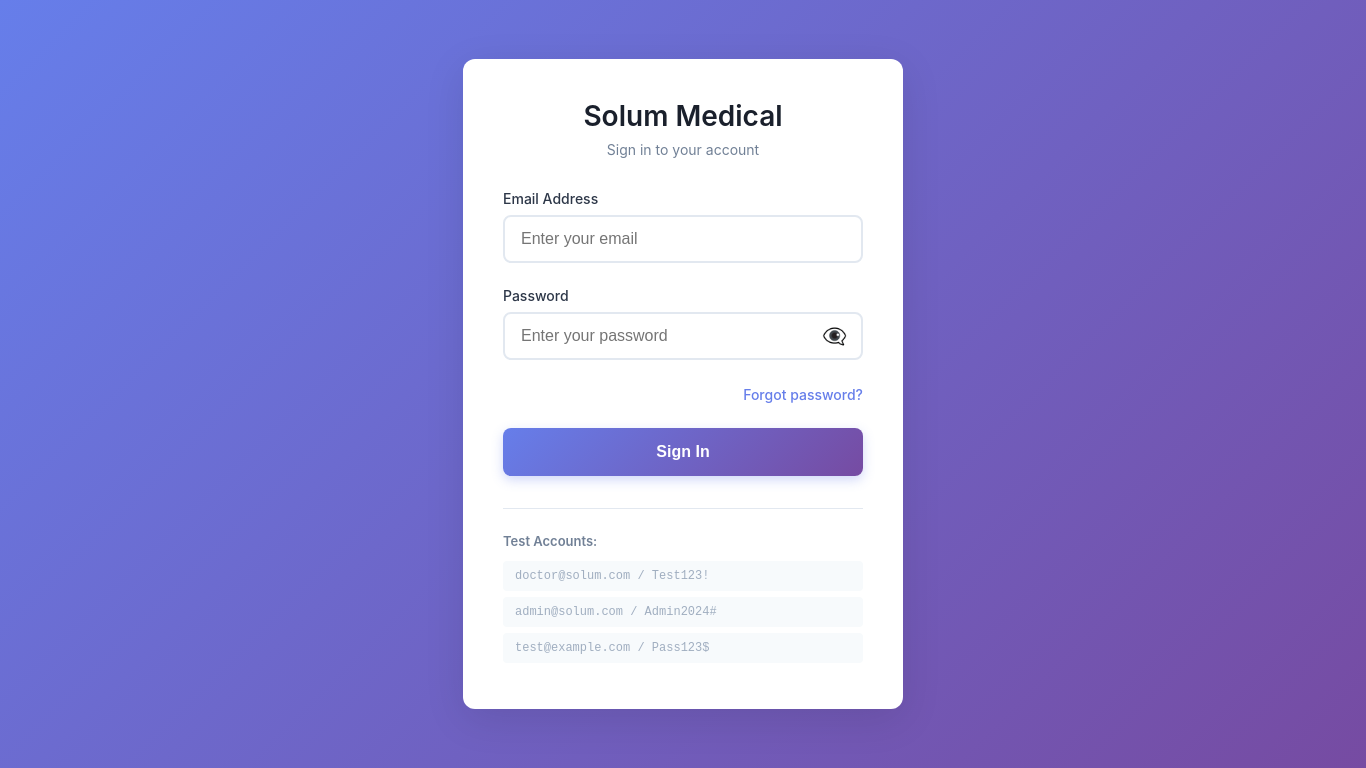
Test: Solum Medical Login Page › Email Validation › should show error when email is empty
Clear the field labelled "Email Address" at (683, 239), box [503,215,863,263]
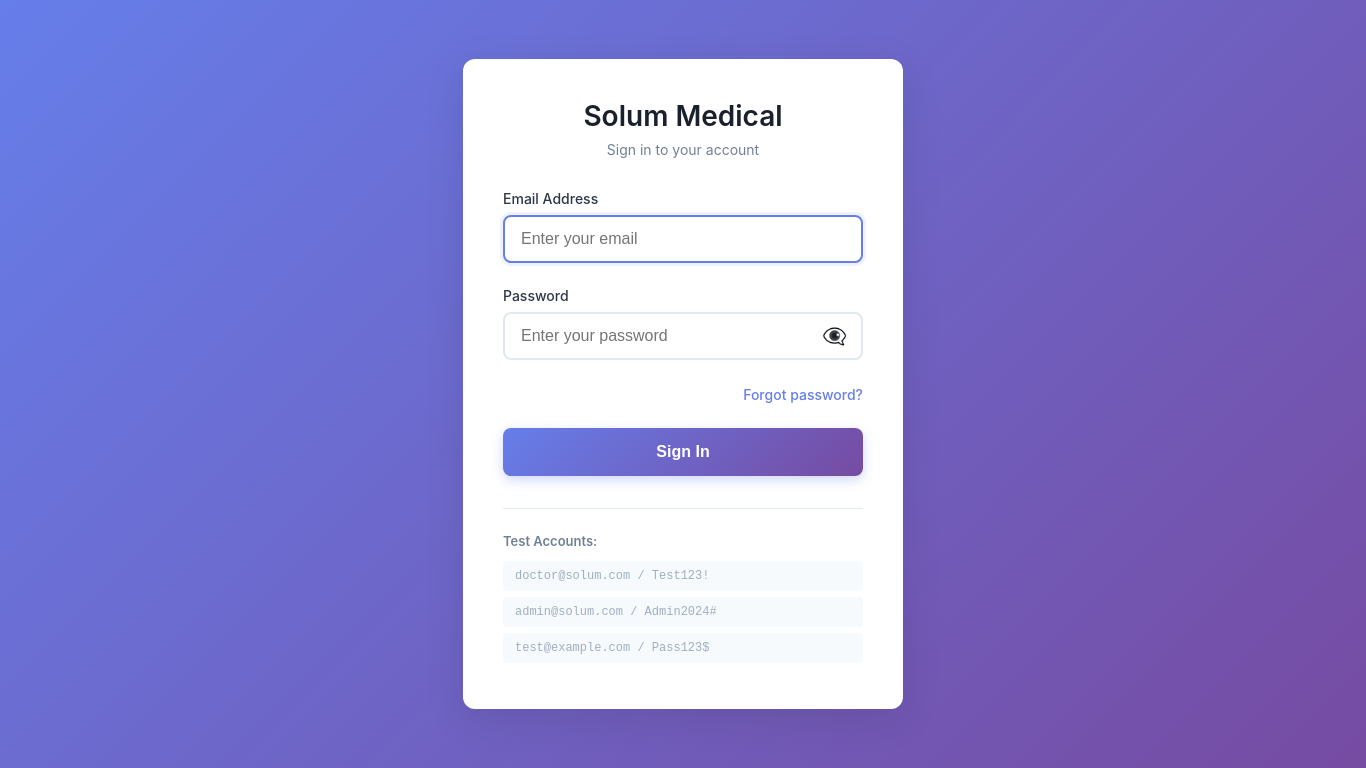
Type "Test123!" into the password field labelled "Password" at (683, 336), box [503,312,863,360]
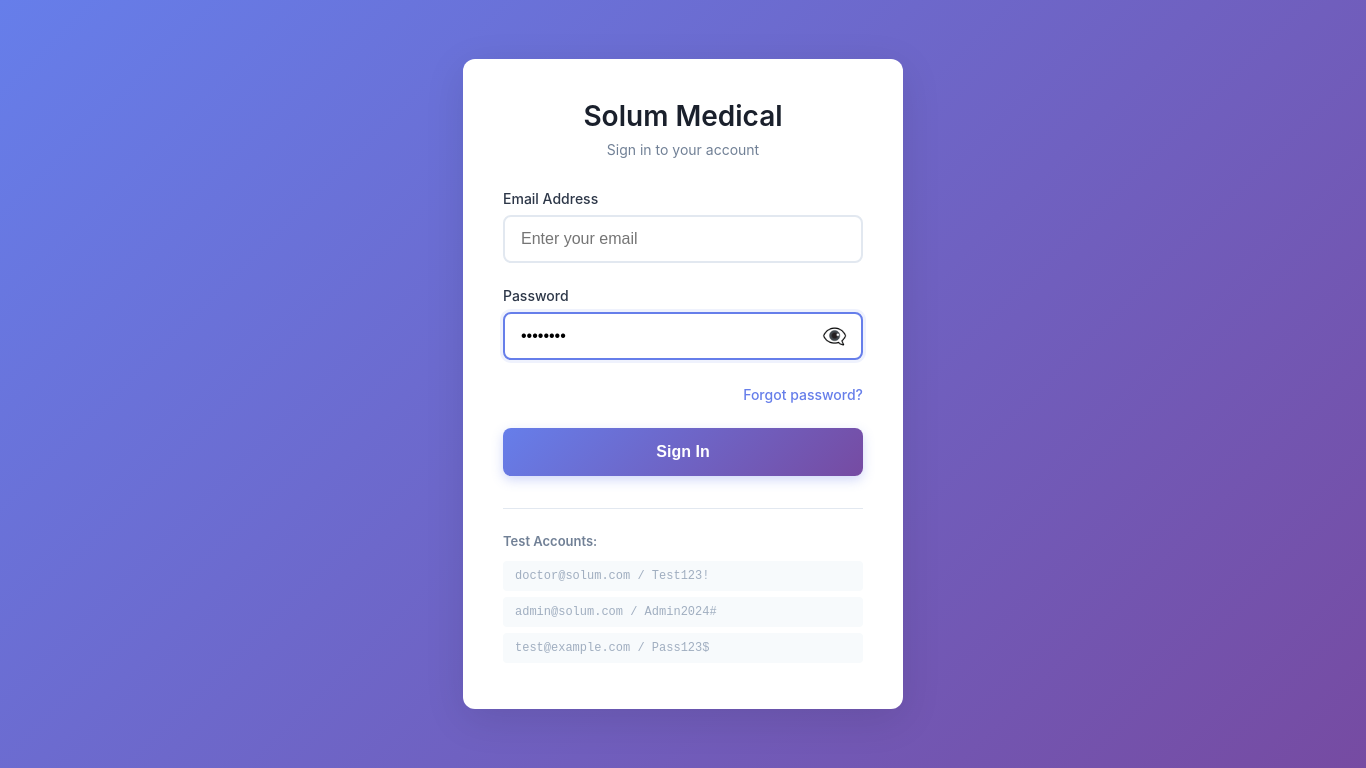
Click the button "Sign In" at (683, 452), box [503,428,863,476]
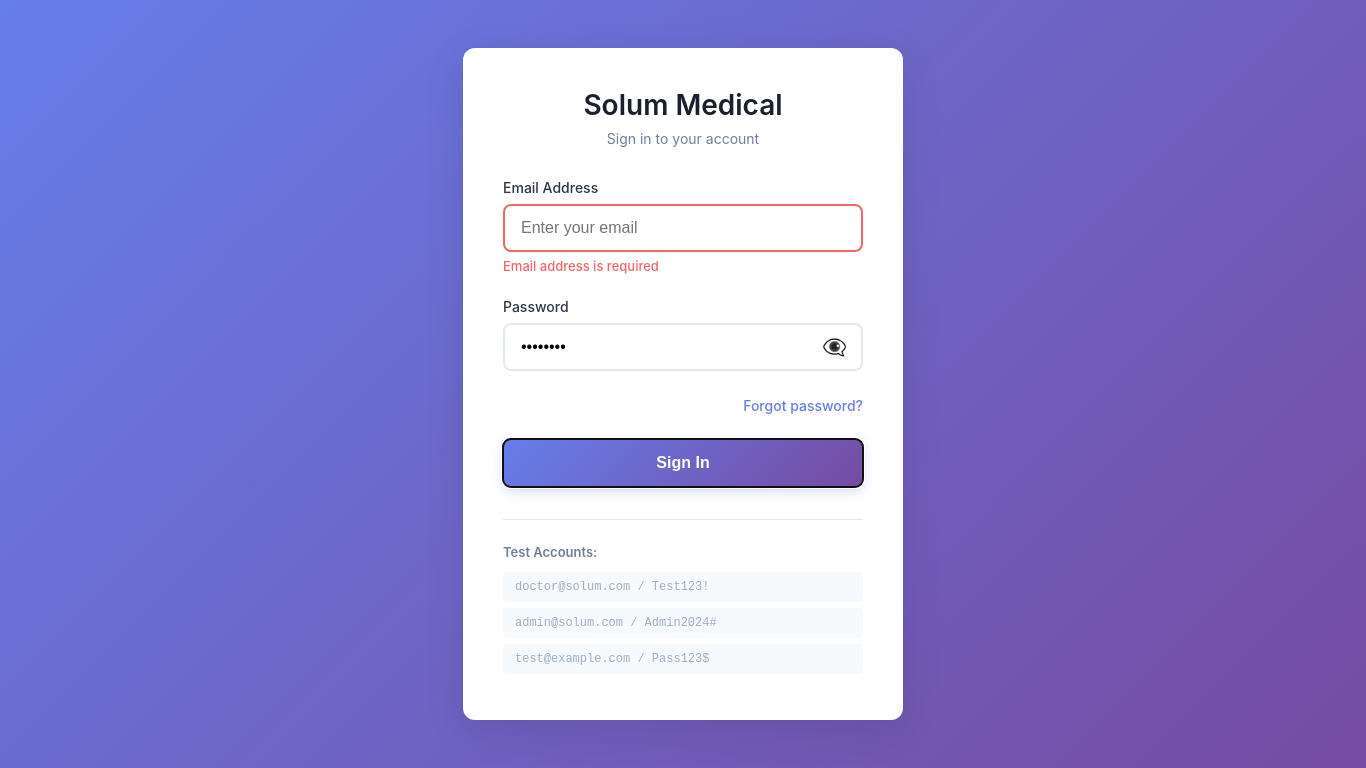
Now the text "Email address is required" is shown, box [503,258,659,274]
